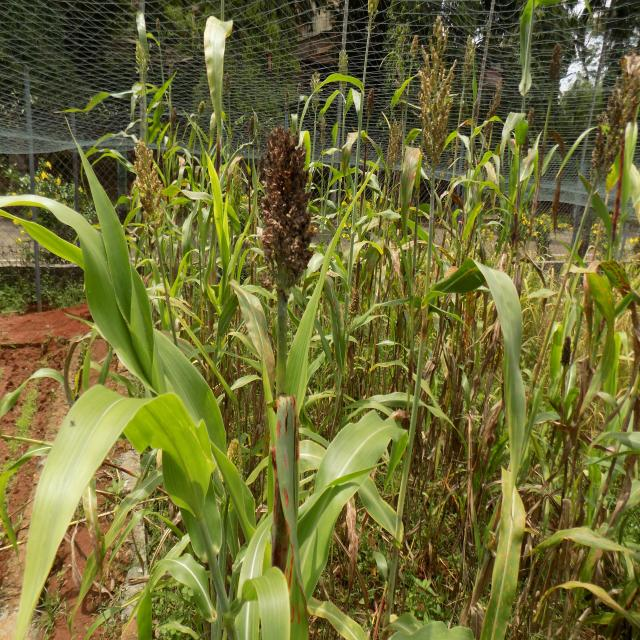millet_healthy: (11, 380, 214, 630), (0, 179, 171, 398), (65, 116, 163, 395), (432, 253, 536, 468), (302, 413, 394, 640), (440, 262, 534, 468), (220, 509, 296, 640), (194, 149, 241, 344), (481, 467, 529, 640), (200, 15, 236, 132)
millet_rust: (579, 249, 636, 406), (274, 393, 309, 640)
